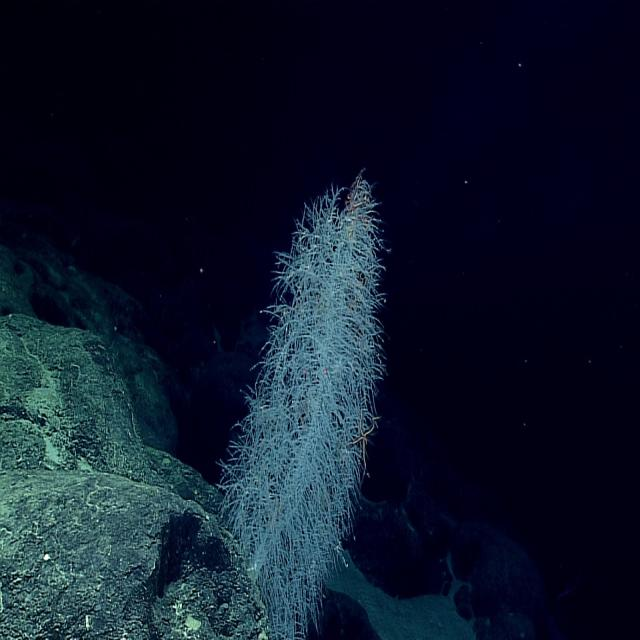Brittle Star: (344, 408, 384, 479)
Not Brittle Star: (207, 163, 397, 639)
